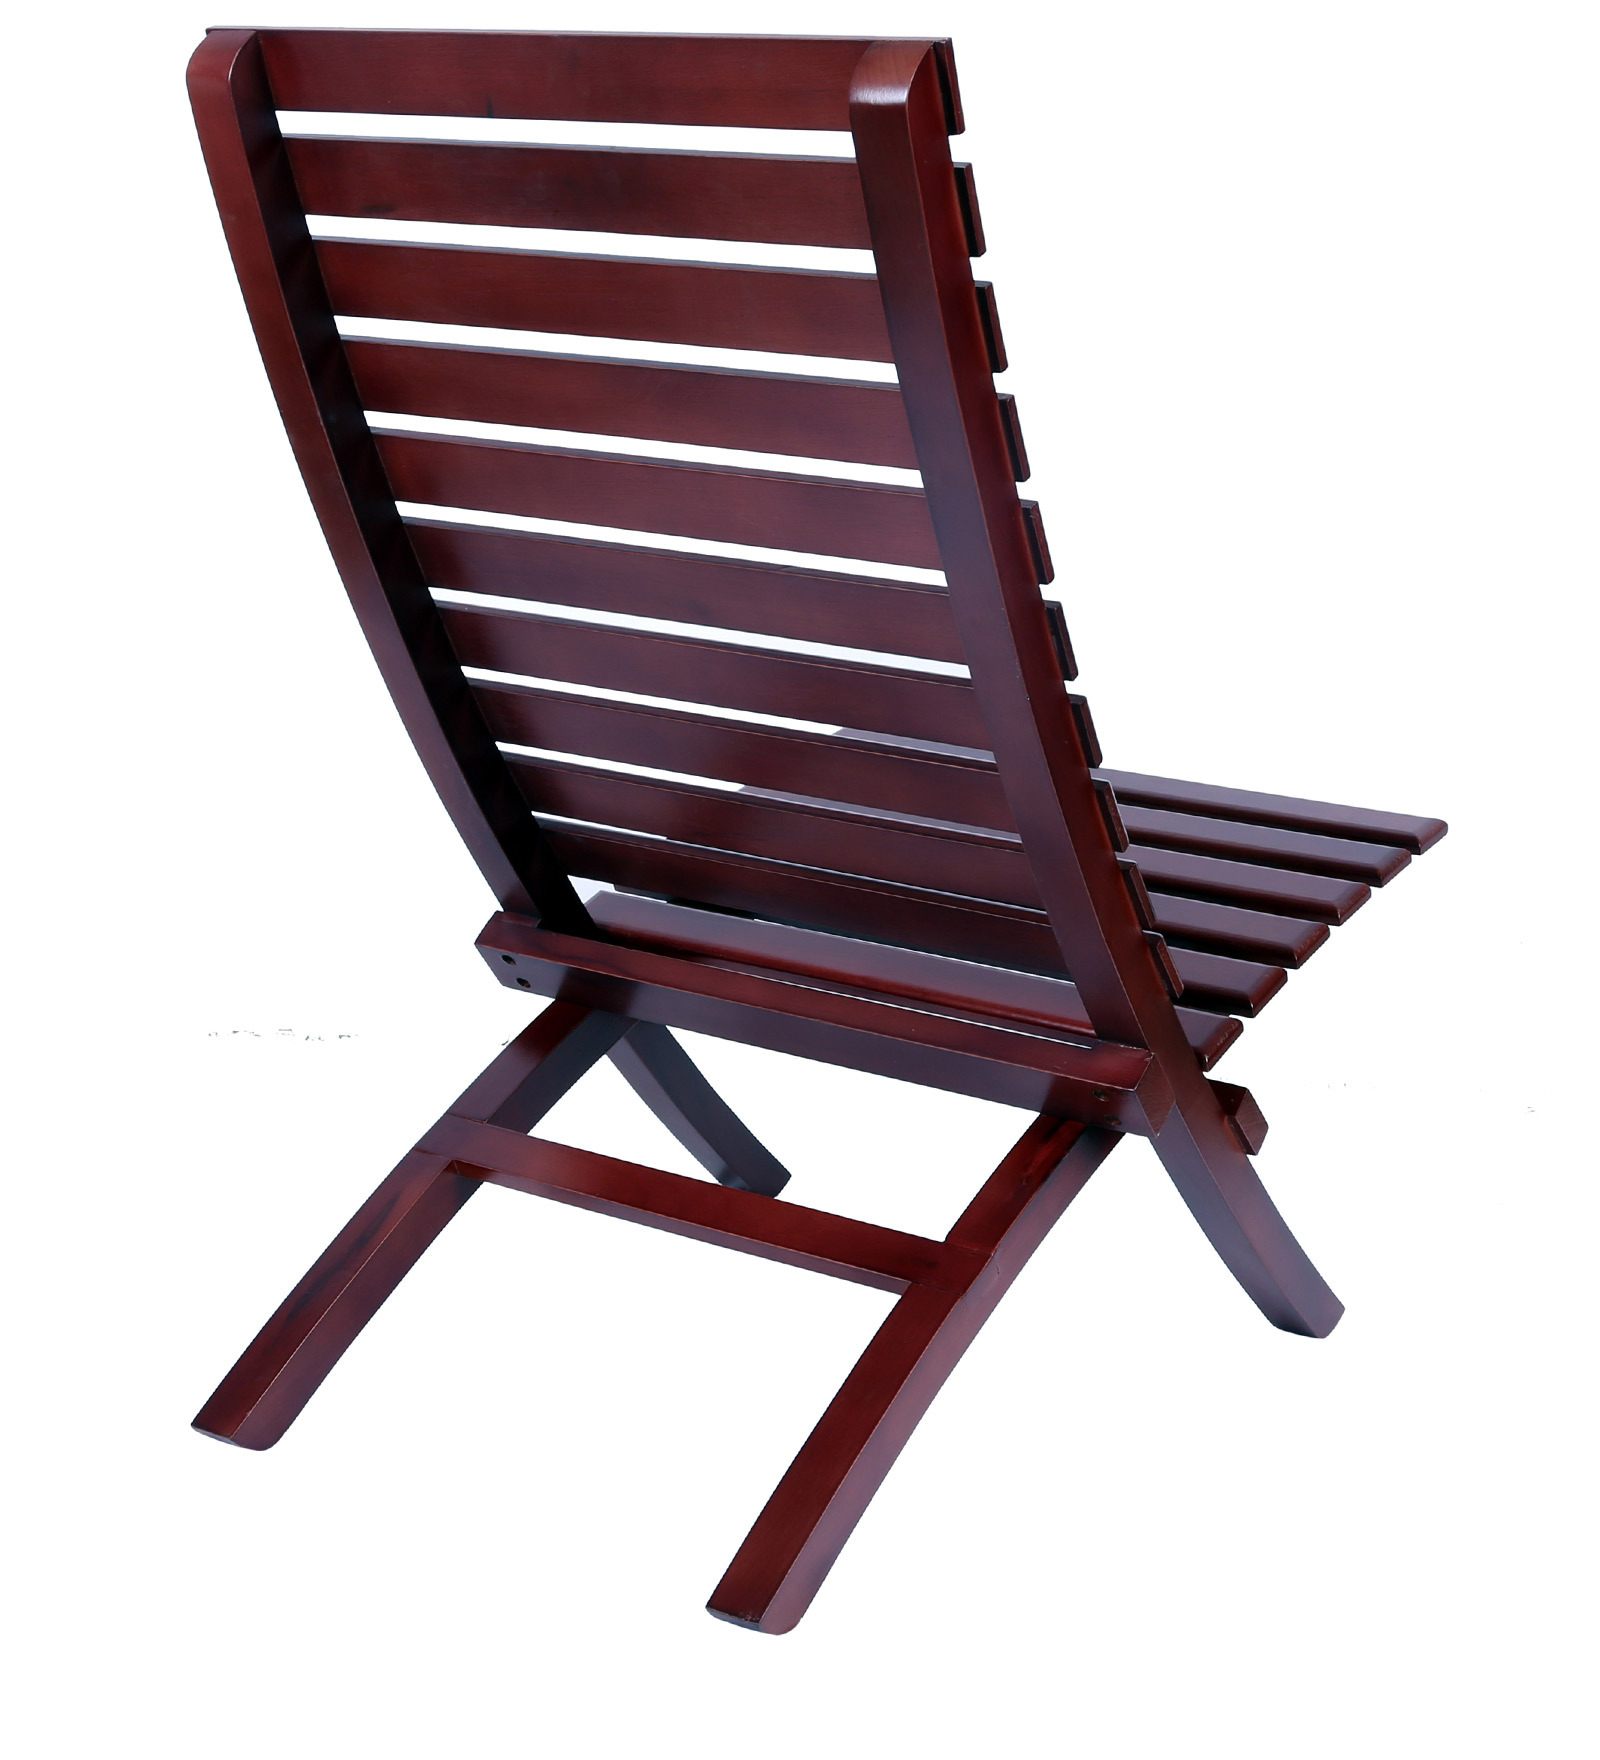Foldable Chair in Brown Colour by ClasiCraft: (120, 15, 1471, 1647)
